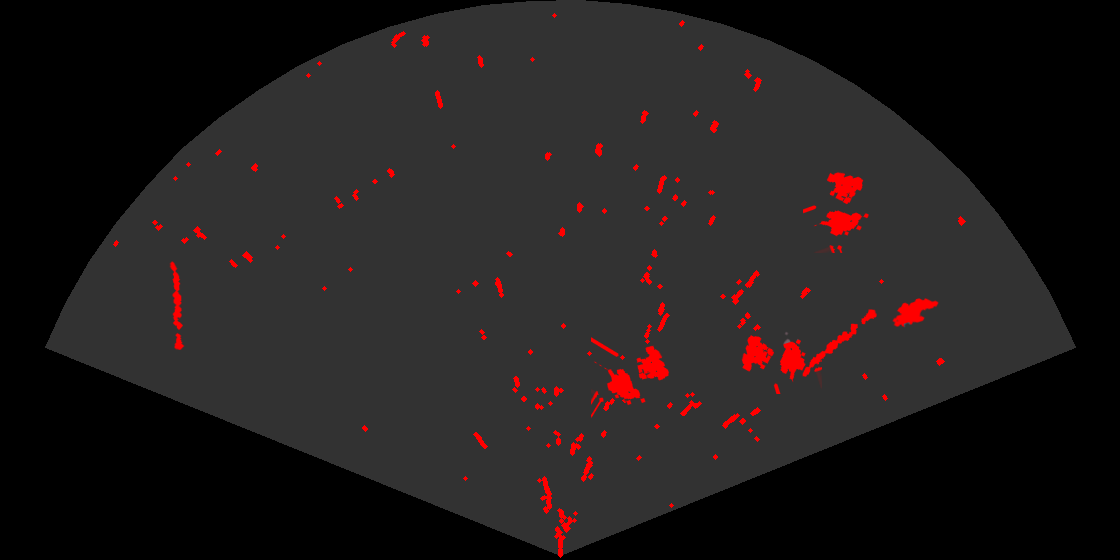AUV: (891, 297, 940, 329)
cage: (591, 336, 671, 419), (803, 171, 870, 253), (740, 331, 822, 394)
chain: (801, 308, 879, 378), (168, 260, 186, 350)
